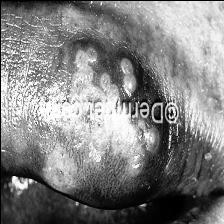Toxin: (19, 120, 178, 212), (31, 38, 162, 96)
